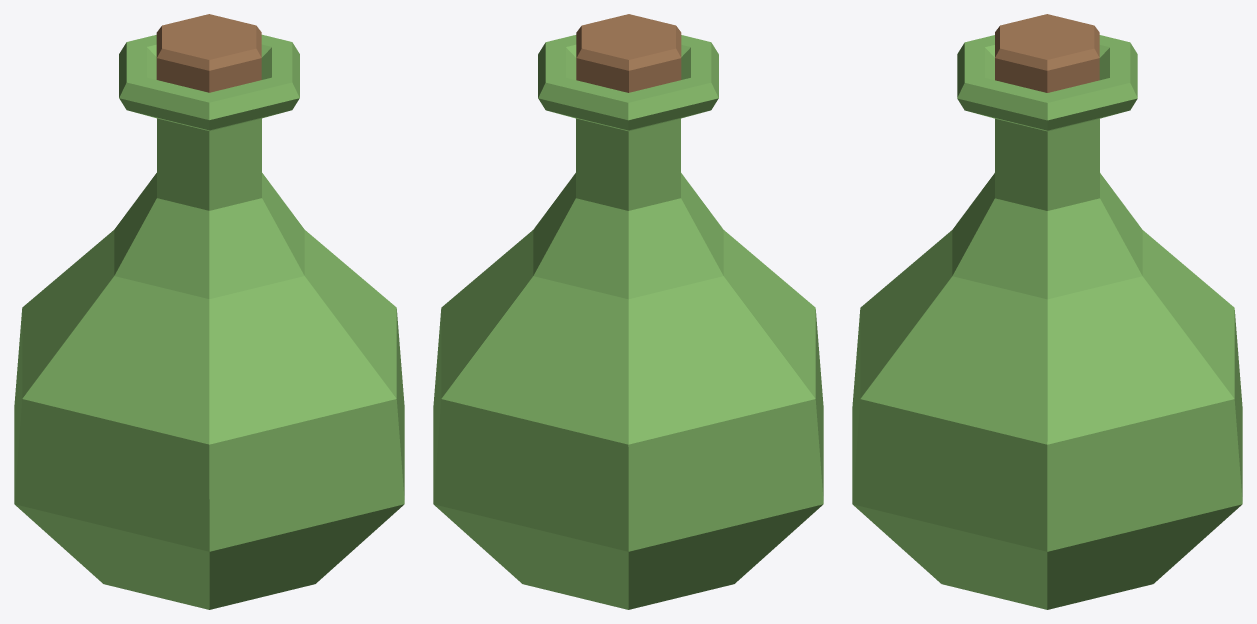
The model's file is Green_Potion_3.fbx.
3 views of the same model, side by side, from view 1: azimuth 30°, elevation 25°; view 2: azimuth 150°, elevation 25°; view 3: azimuth 270°, elevation 25° (orthographic).
Visible parts, largest first — view 1: Green_Potion_3; view 2: Green_Potion_3; view 3: Green_Potion_3.
Part boxes in pixels (x1=…): Green_Potion_3: x1=14, y1=14, x2=404, y2=609; Green_Potion_3: x1=433, y1=14, x2=823, y2=609; Green_Potion_3: x1=852, y1=14, x2=1242, y2=609.
Size of the model in its own units: 21.88 by 27.9 by 18.95.
